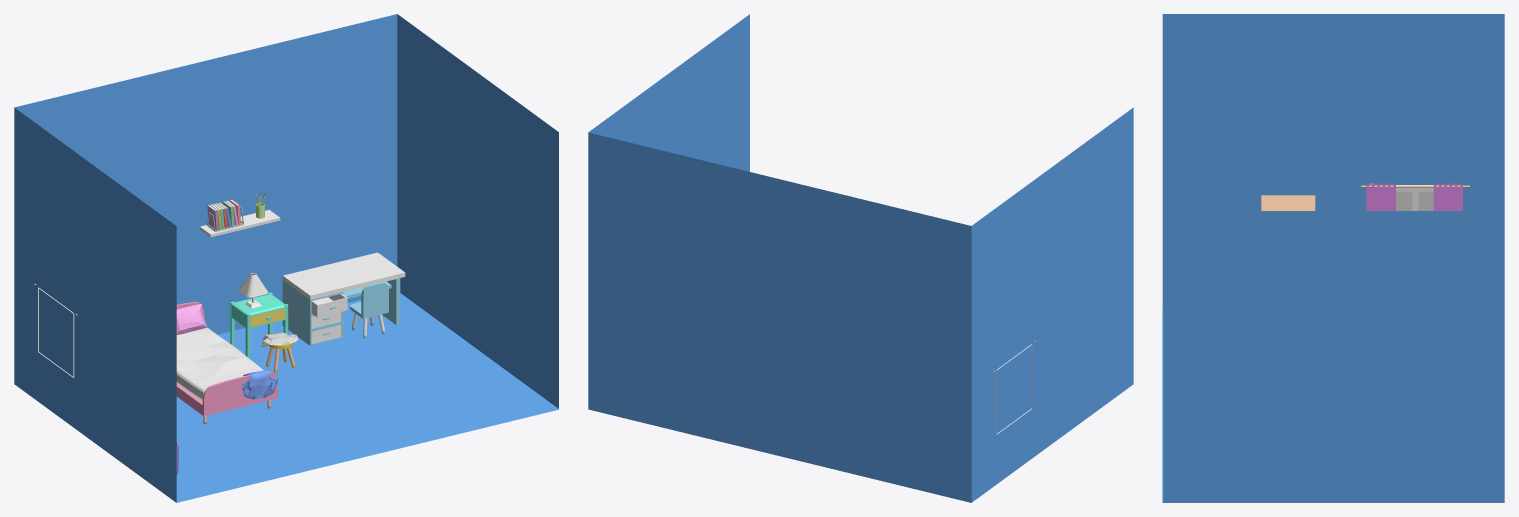
The model's file is BEDROOM-ENVIRONMENT.fbx.
3 renders of one model, left to right at view 1: azimuth 30°, elevation 25°; view 2: azimuth 150°, elevation 25°; view 3: azimuth 270°, elevation 25°, orthographic. The views are drawn at different scales.
Parts seen in each view (by area): view 1: wall, bed, Cube.027, Cube.003, Cube.021, tshirt, Cube.008, Cube.025; view 2: wall; view 3: wall, Cube.006, bed.004, Plane.002, Plane.001.
Boxes of the visible parts, x1,y1,x2,y2 form: wall: [14, 14, 559, 502]; bed: [176, 301, 277, 423]; Cube.027: [282, 252, 405, 345]; Cube.003: [230, 292, 288, 359]; Cube.021: [350, 282, 388, 338]; tshirt: [242, 370, 278, 399]; Cube.008: [200, 209, 280, 237]; Cube.025: [311, 294, 347, 317]; wall: [588, 14, 1133, 502]; wall: [1162, 14, 1504, 502]; Cube.006: [1396, 185, 1433, 210]; bed.004: [1261, 195, 1315, 210]; Plane.002: [1366, 183, 1395, 210]; Plane.001: [1433, 183, 1462, 210].
Size of the model in its own units: 1771 by 1220 by 1293.
47 materials, 1 textured.
